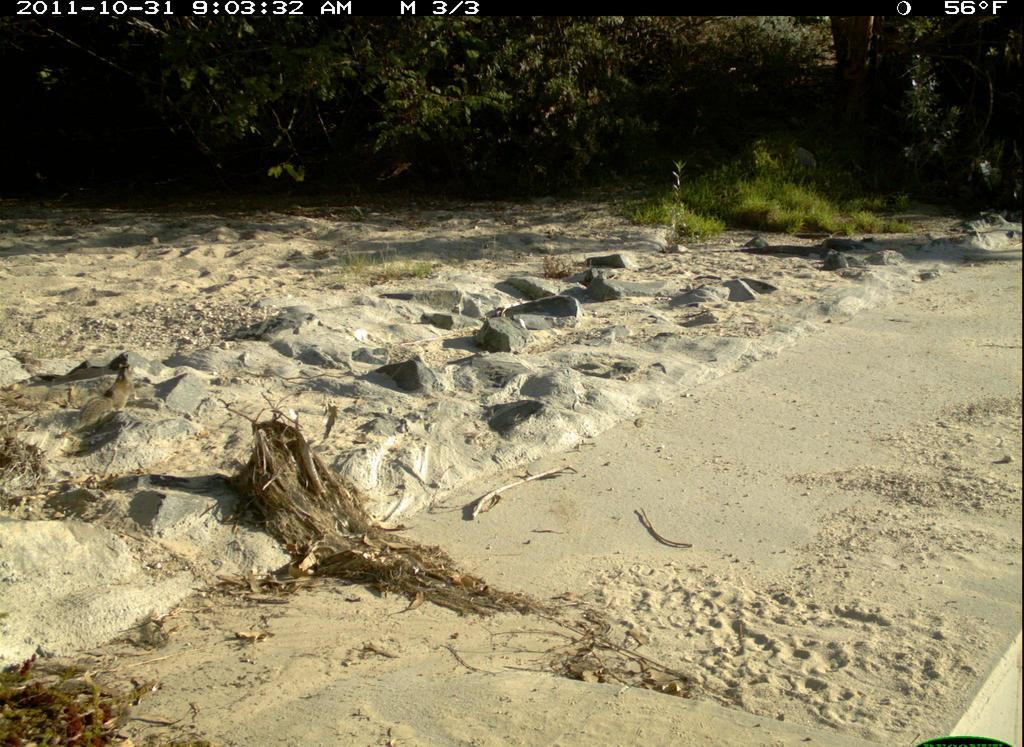squirrel: (69, 358, 148, 435)
